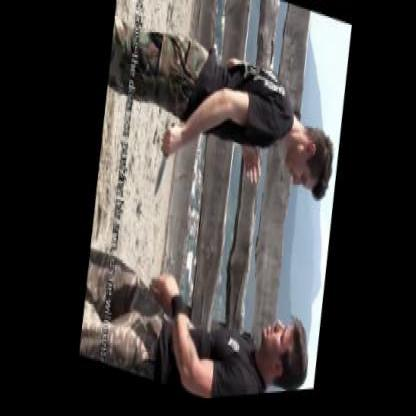knife: (146, 114, 182, 213)
